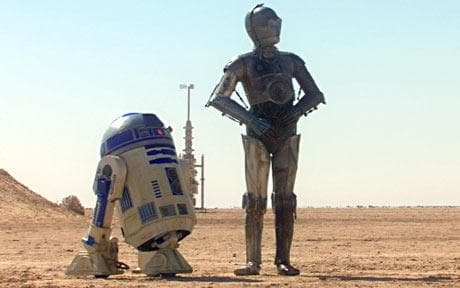r2d2: (65, 112, 195, 279)
